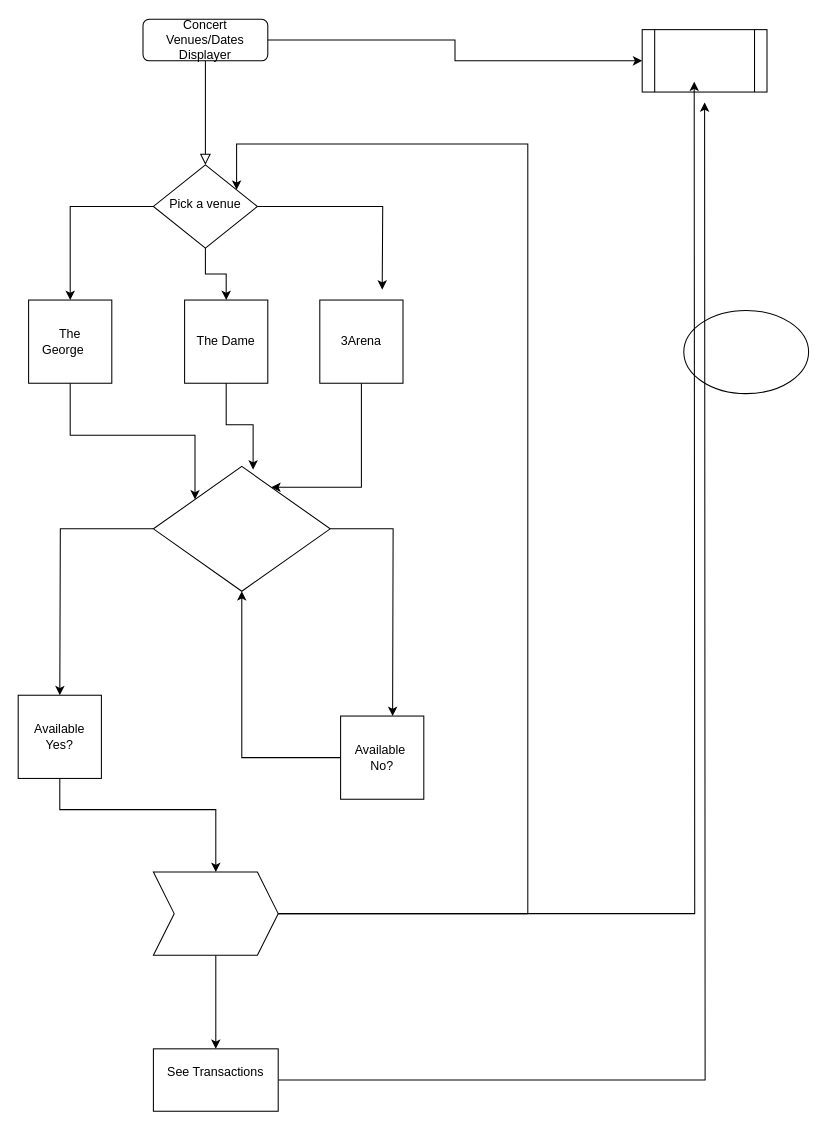
Image size: 827x1129. Some labels were removed from this diagram. The shapes that lost their labels are listed below. From the top down, each one's centre as x and y in pixels, then its label:
At (704,60): "Exit Program".
At (746,351): "Concert Ticket Class".
At (241,528): "How many tickets to buy".
At (215,913): "Tickets are sold".
